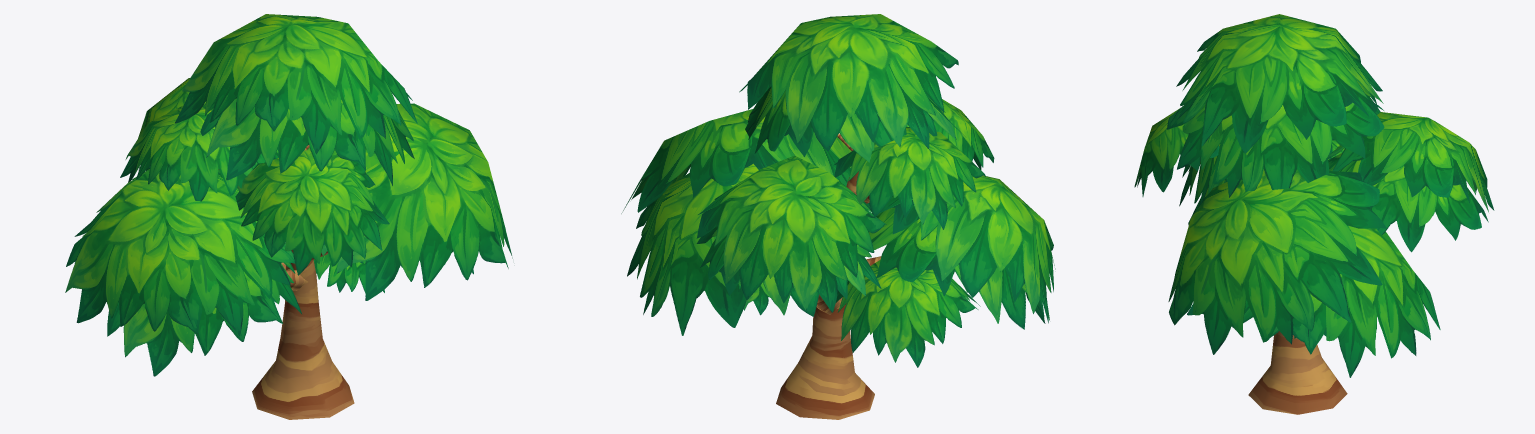
File: SmallTree.FBX
3 views of the same model, side by side, from view 1: azimuth 30°, elevation 25°; view 2: azimuth 150°, elevation 25°; view 3: azimuth 270°, elevation 25° (orthographic). The views are drawn at different scales.
Visible parts, largest first — view 1: SmallTree; view 2: SmallTree; view 3: SmallTree.
Part boxes in pixels (x1=…): SmallTree: x1=65, y1=14, x2=512, y2=419; SmallTree: x1=621, y1=14, x2=1055, y2=419; SmallTree: x1=1134, y1=14, x2=1494, y2=414.
Size of the model in its own units: 323 by 245 by 247.
